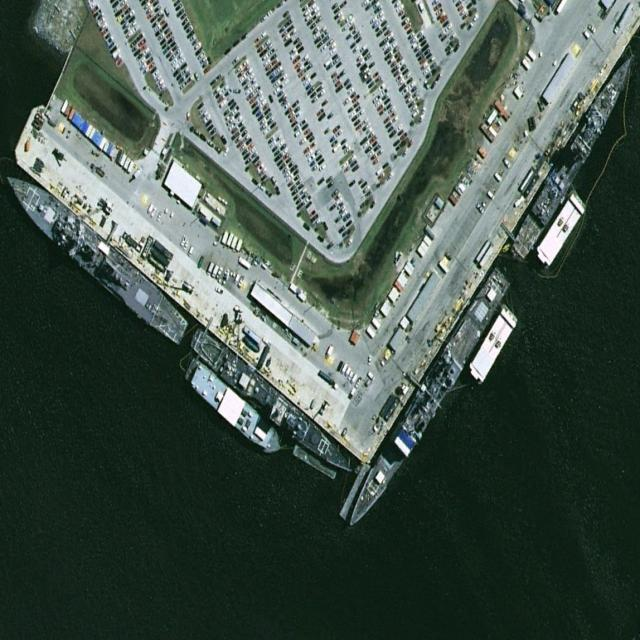Cruiser: (343, 264, 513, 538)
Destroyer: (1, 162, 192, 350)
Frigate: (510, 45, 640, 263), (188, 324, 357, 483)
Other Ship: (182, 354, 286, 461)
